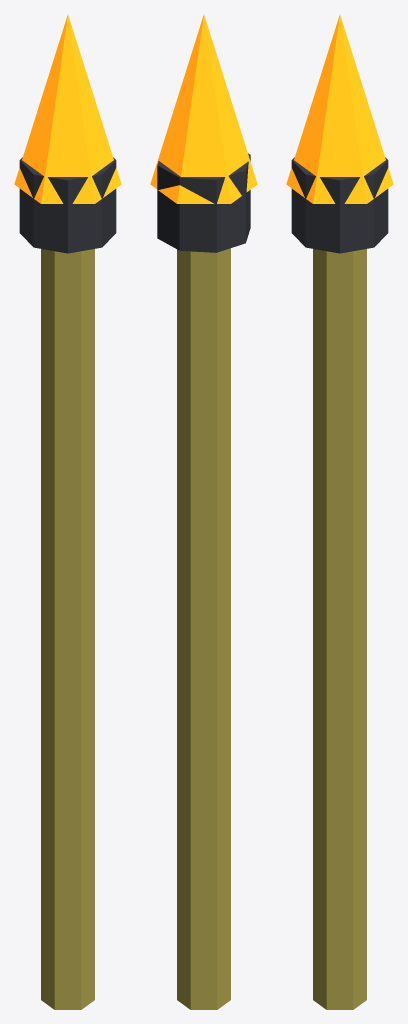
The model's file is tiki_torch.glb.
3 renders of one model, left to right at view 1: azimuth 90°, elevation 25°; view 2: azimuth 150°, elevation 25°; view 3: azimuth 270°, elevation 25°, orthographic.
Parts seen in each view (by area): view 1: tiki_torch; view 2: tiki_torch; view 3: tiki_torch.
Boxes of the visible parts, x1=… form: tiki_torch: x1=14, y1=15, x2=121, y2=1009; tiki_torch: x1=150, y1=15, x2=257, y2=1009; tiki_torch: x1=286, y1=15, x2=393, y2=1009.
Bounding box in the file's own units: 0.18 × 2.03 × 0.2.
